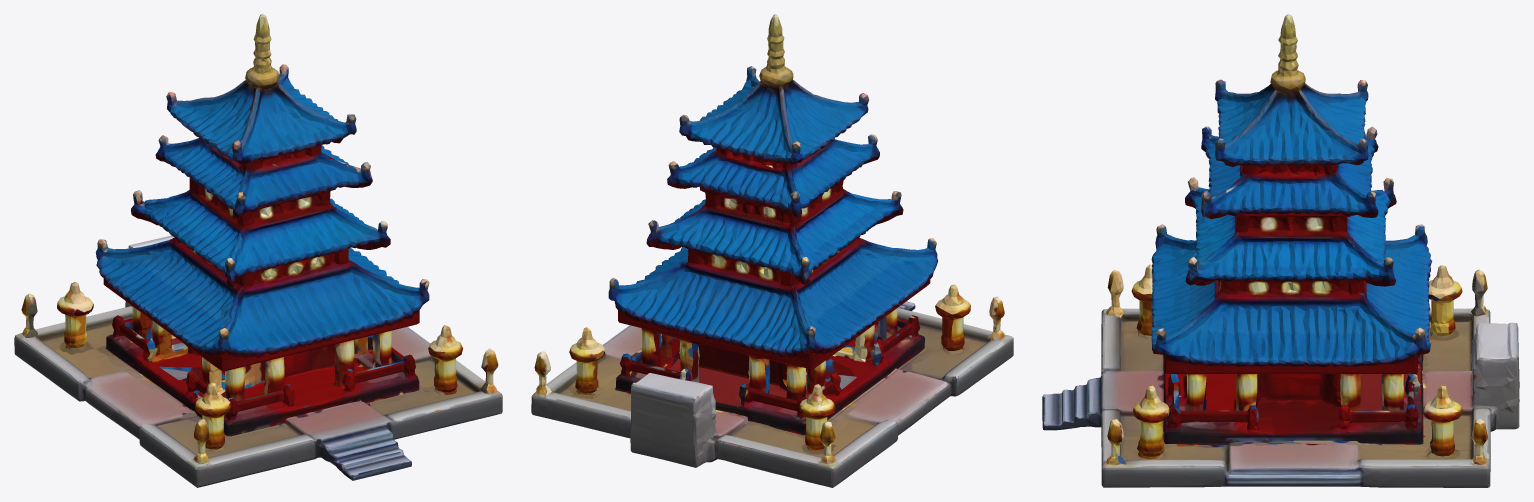
File: sakura_pagoda_tower.glb
The picture shows the model from 3 angles, left to right: view 1: azimuth 30°, elevation 25°; view 2: azimuth 150°, elevation 25°; view 3: azimuth 270°, elevation 25°; orthographic projection. The views are drawn at different scales.
Visible parts, largest first — view 1: tmpixu5dvub.ply; view 2: tmpixu5dvub.ply; view 3: tmpixu5dvub.ply.
Part boxes in pixels (bbox=[...]): tmpixu5dvub.ply: bbox=[14, 14, 502, 487]; tmpixu5dvub.ply: bbox=[531, 14, 1013, 487]; tmpixu5dvub.ply: bbox=[1042, 14, 1519, 487].
Size of the model in its own units: 1.6 by 1.84 by 1.99.
Materials: 1 (1 with a texture image).
